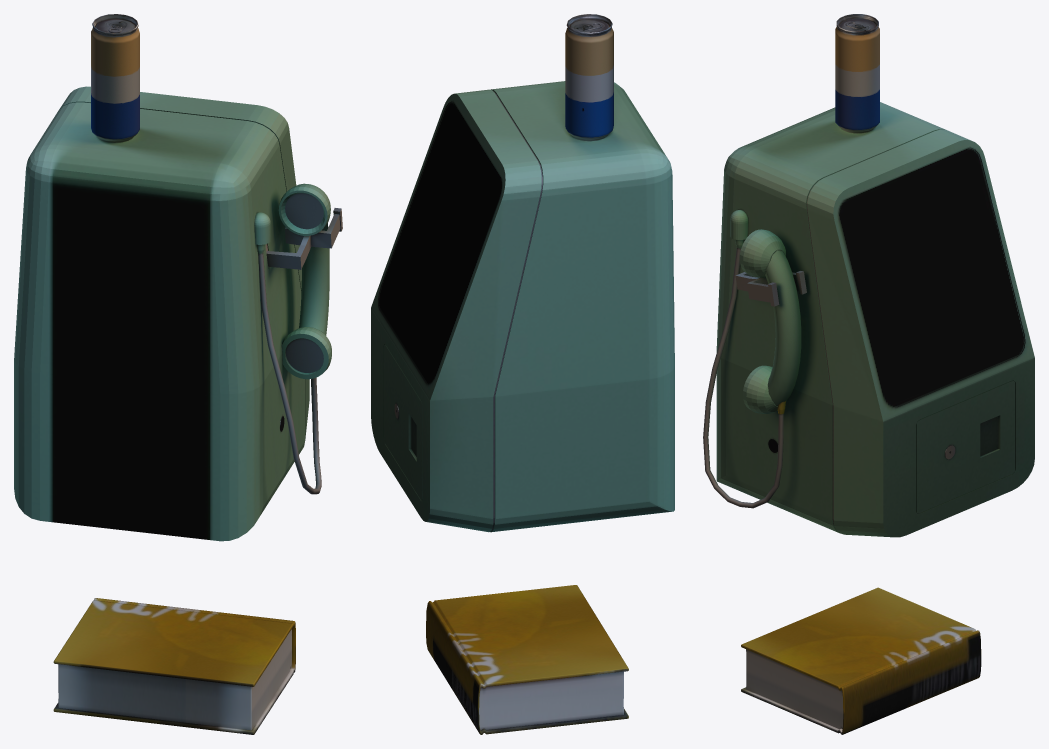
Rendered from Phone.glb.
3 renders of one model, left to right at view 1: azimuth 30°, elevation 25°; view 2: azimuth 150°, elevation 25°; view 3: azimuth 270°, elevation 25°, orthographic. The views are drawn at different scales.
Visible parts, largest first — view 1: Plane.002_Baked, Yellow story book_Baked, BézierCurve_Baked, Can 330 ml sleek.001_Baked; view 2: Plane.002_Baked, Yellow story book_Baked, Can 330 ml sleek.001_Baked; view 3: Plane.002_Baked, Yellow story book_Baked, BézierCurve_Baked, Can 330 ml sleek.001_Baked.
Part boxes in pixels (bbox=[...]): Plane.002_Baked: bbox=[14, 86, 342, 541]; Yellow story book_Baked: bbox=[53, 598, 295, 734]; BézierCurve_Baked: bbox=[278, 183, 331, 379]; Can 330 ml sleek.001_Baked: bbox=[91, 14, 139, 142]; Plane.002_Baked: bbox=[371, 81, 674, 532]; Yellow story book_Baked: bbox=[426, 585, 628, 734]; Can 330 ml sleek.001_Baked: bbox=[565, 14, 613, 141]; Plane.002_Baked: bbox=[703, 102, 1034, 537]; Yellow story book_Baked: bbox=[741, 587, 981, 734]; BézierCurve_Baked: bbox=[739, 229, 801, 413]; Can 330 ml sleek.001_Baked: bbox=[835, 14, 879, 133].
Bounding box in the file's own units: 0.4777 × 1.05 × 0.498.
Materials: 4 (4 with a texture image).
